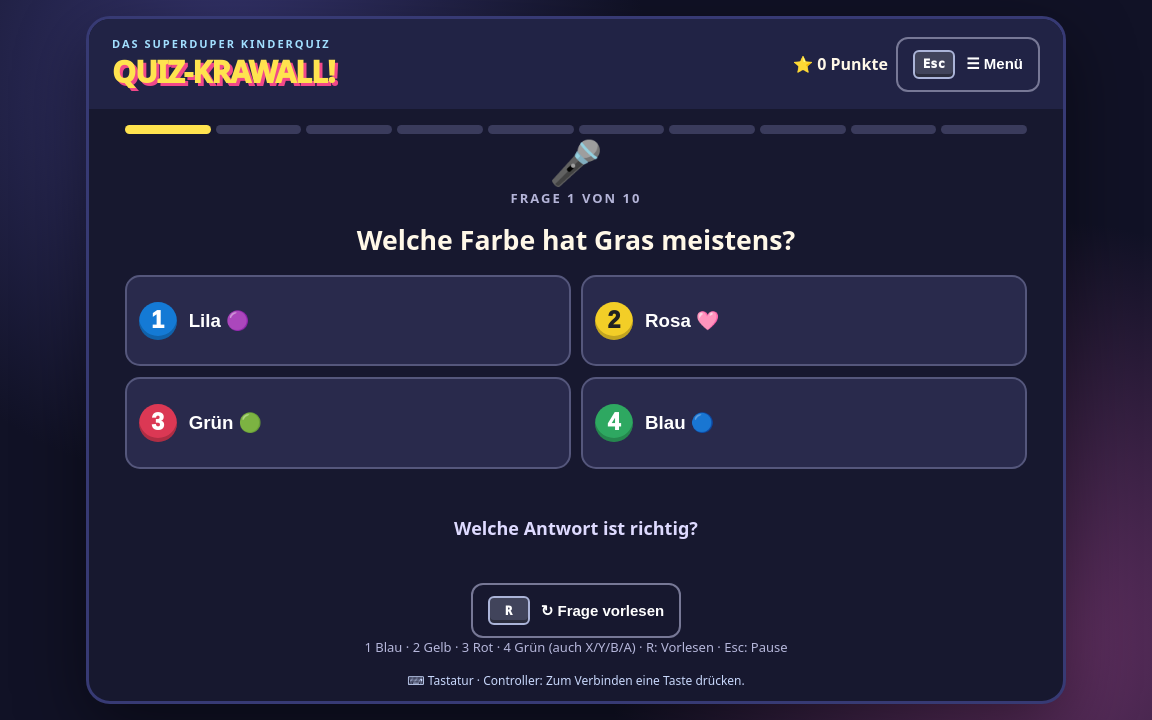
Test: quiz app interaction › handles pause, replay and resume through header button
Earlier steps of the test are not shown.
Step 1. Click the button "Esc ☰ Menü" → (968, 64), box x1=896 y1=36 x2=1040 y2=92
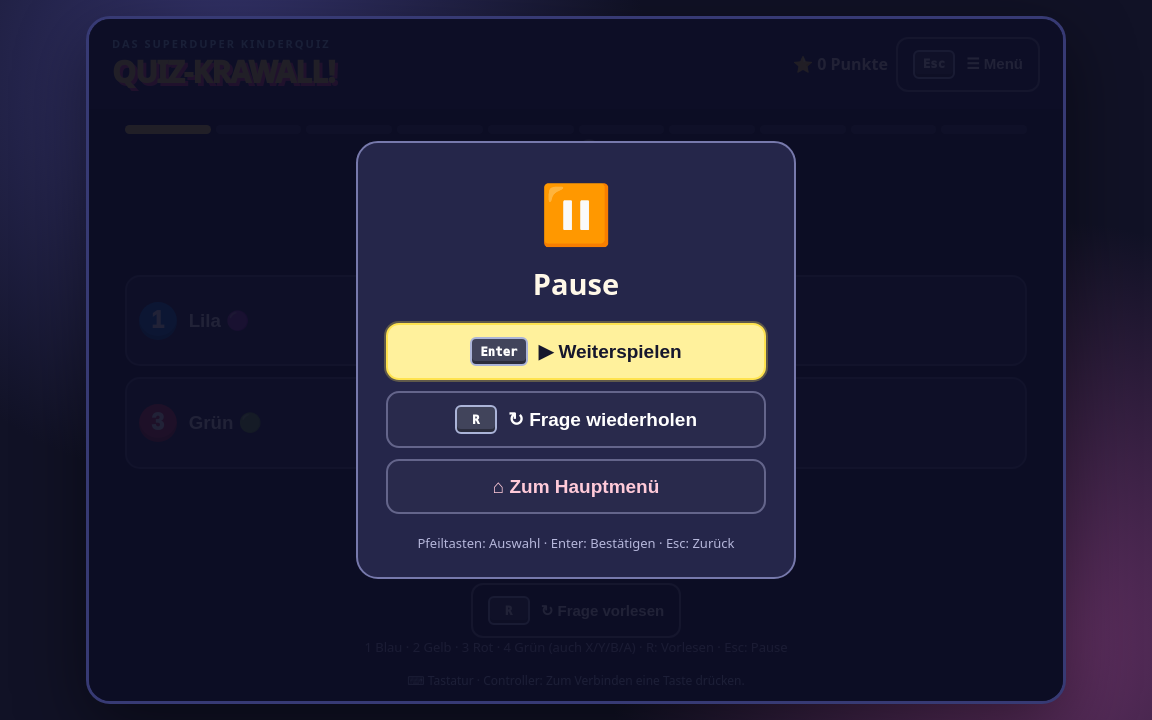
Expected: the heading "Pause" is shown, x1=533 y1=264 x2=619 y2=303
Step 2. Click the button "R ↻ Frage wiederholen" → (576, 420), box x1=386 y1=391 x2=766 y2=448
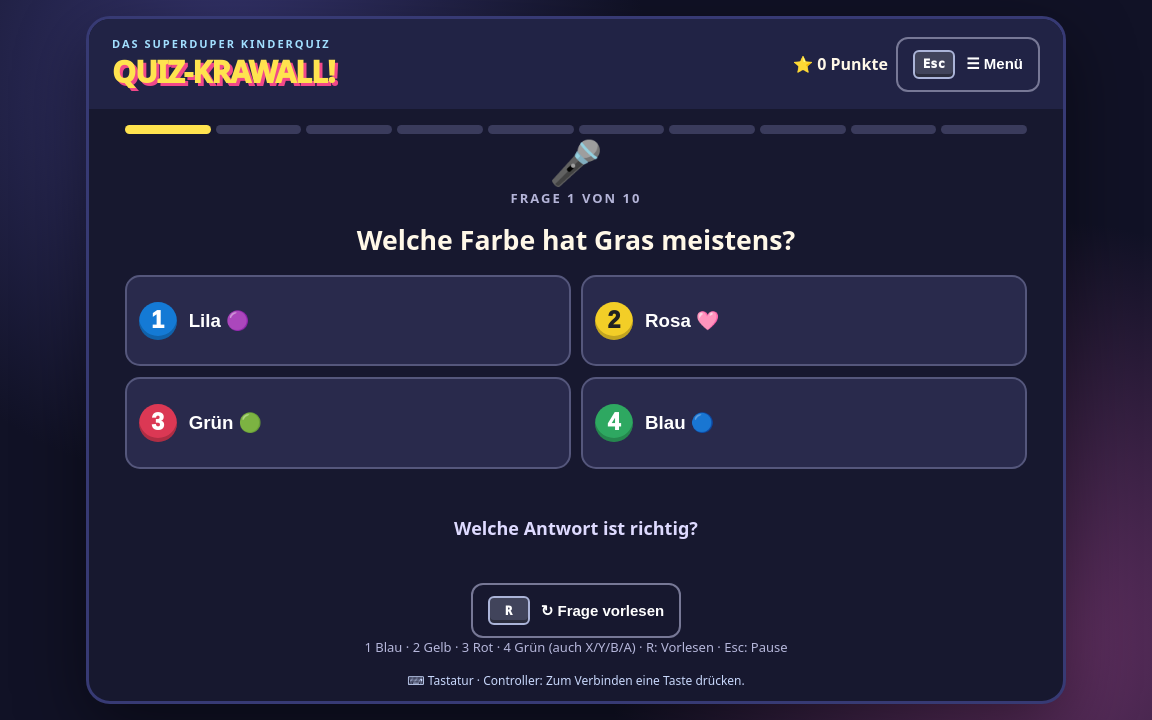
Step 3. Press Escape
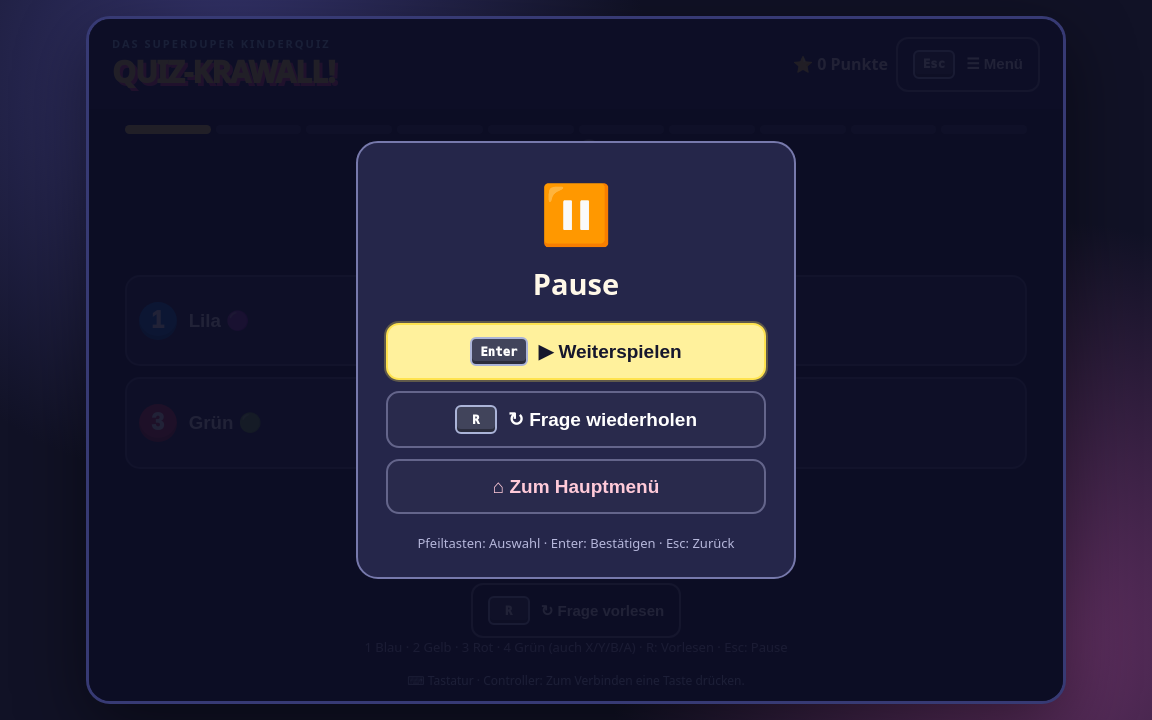
Expected: the heading "Pause" is shown, x1=533 y1=264 x2=619 y2=303
Step 4. Press Escape
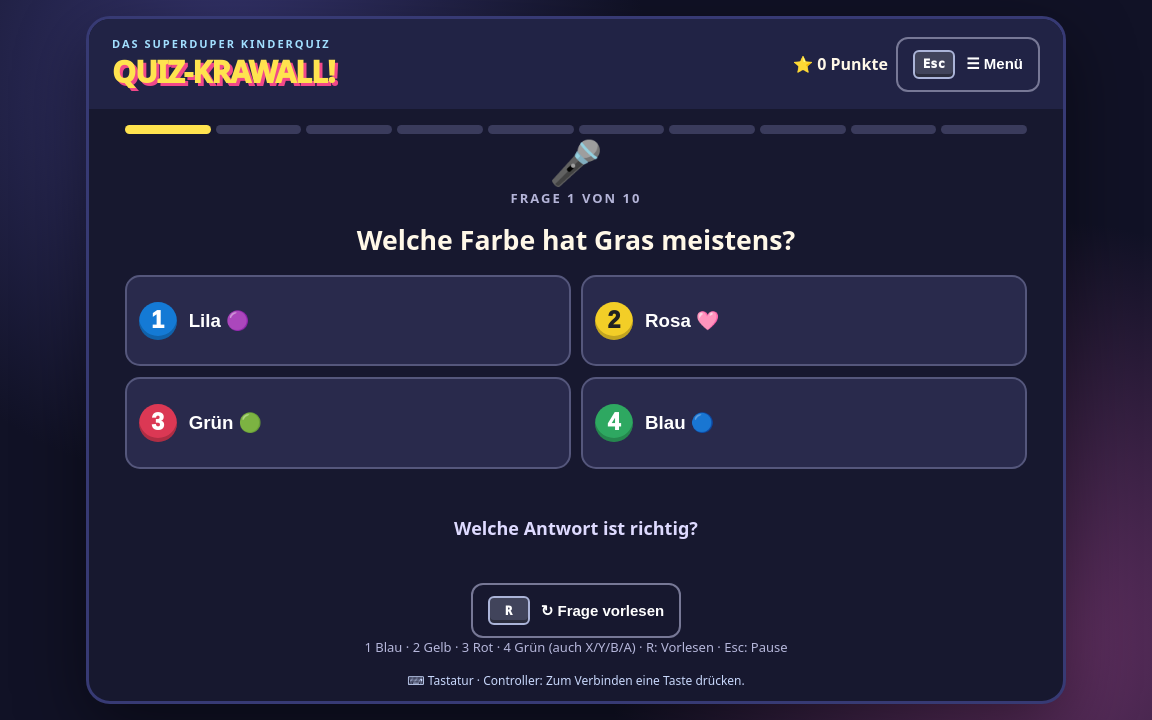
Step 5. Press Escape
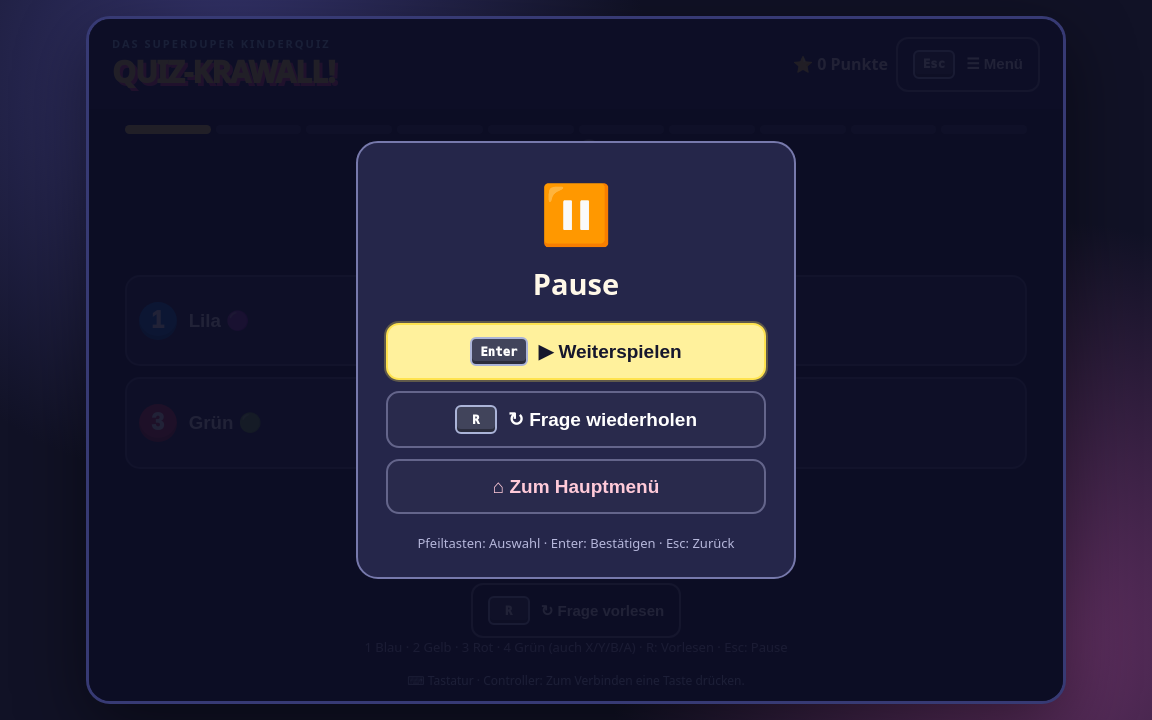
Step 6. Click the button "⌂ Zum Hauptmenü" → (576, 486), box x1=386 y1=459 x2=766 y2=514
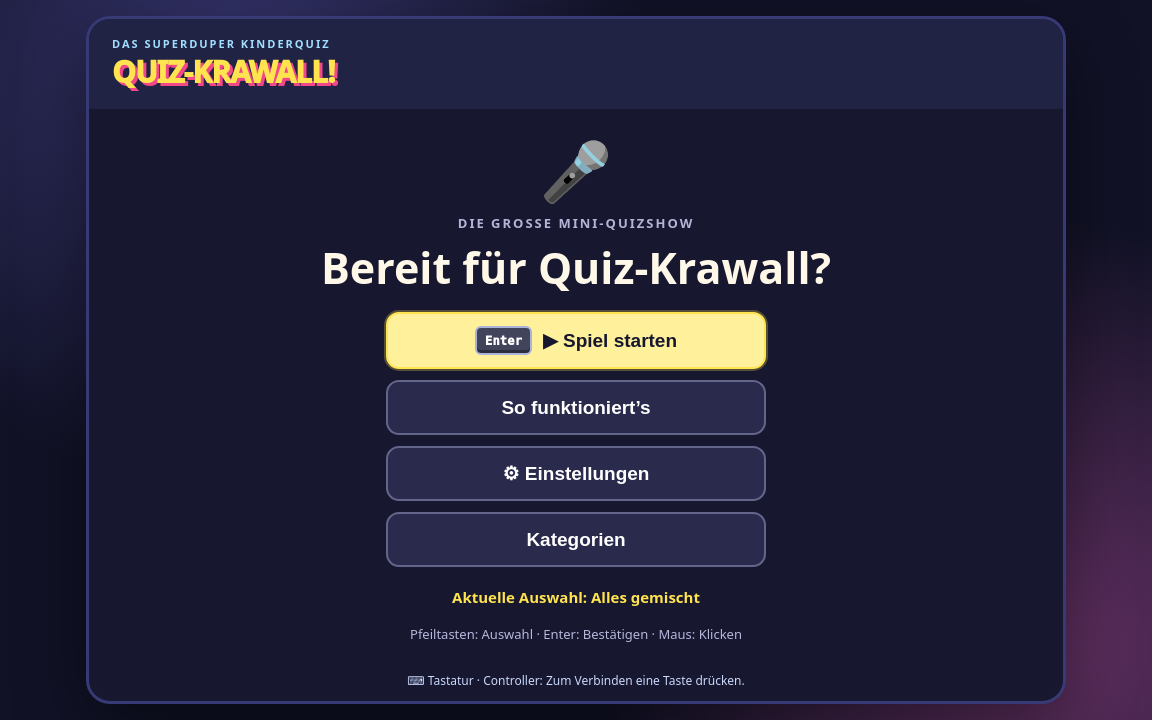
Expected: the heading "Bereit für Quiz-Krawall?" is shown, x1=321 y1=238 x2=831 y2=297
